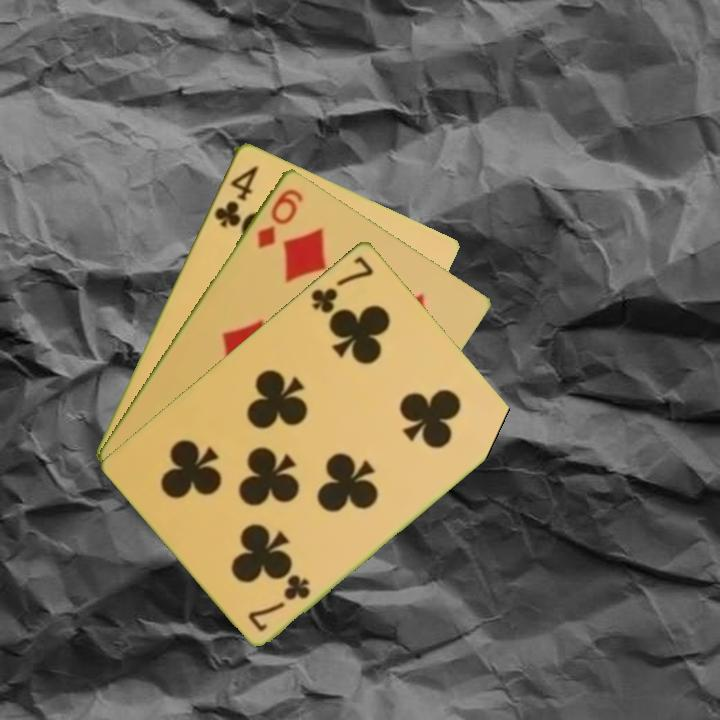4c: (210, 161, 261, 230)
6d: (253, 184, 307, 252)
7c: (307, 251, 377, 316), (244, 570, 314, 634)
